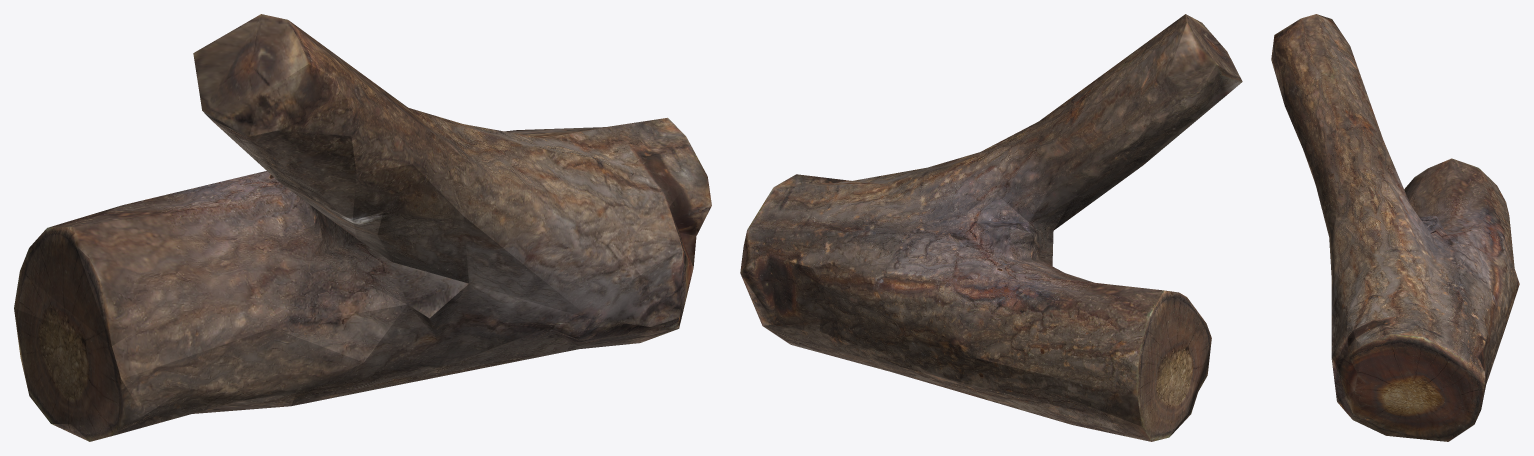
Rendered from log01.fbx.
3 views of the same model, side by side, from view 1: azimuth 30°, elevation 25°; view 2: azimuth 150°, elevation 25°; view 3: azimuth 270°, elevation 25° (orthographic). The views are drawn at different scales.
Visible parts, largest first — view 1: log01; view 2: log01; view 3: log01.
Part boxes in pixels (x1,y1,x2,y2): log01: [14, 14, 711, 441]; log01: [740, 14, 1242, 441]; log01: [1271, 14, 1519, 441].
Size of the model in its own units: 31.6 by 24.82 by 18.85.
